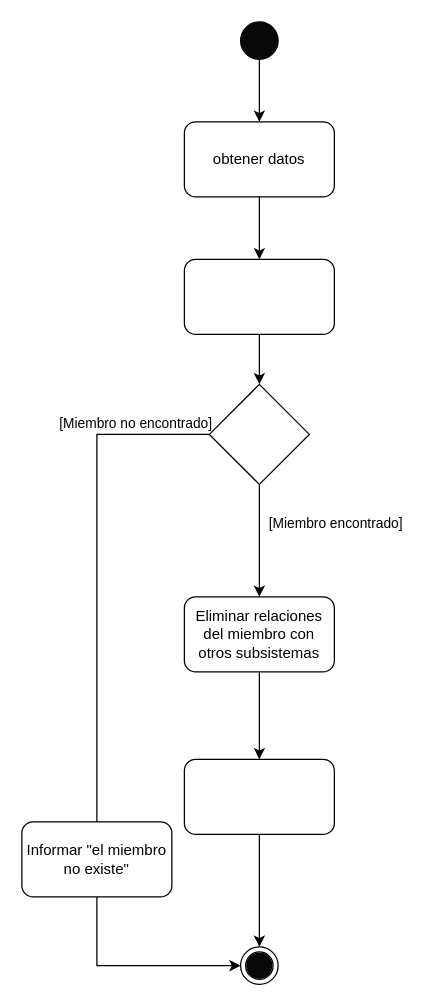
The diagram is 424 pixels wide and 1006 high, and some of its shapes have lost their labels. The shapes that lost their labels are listed below. From the top down, each one's centre as x and y in pixels, then its label:
[258,296]: buscar miembro del staff
[258,796]: Informar de qué se ha borrado
